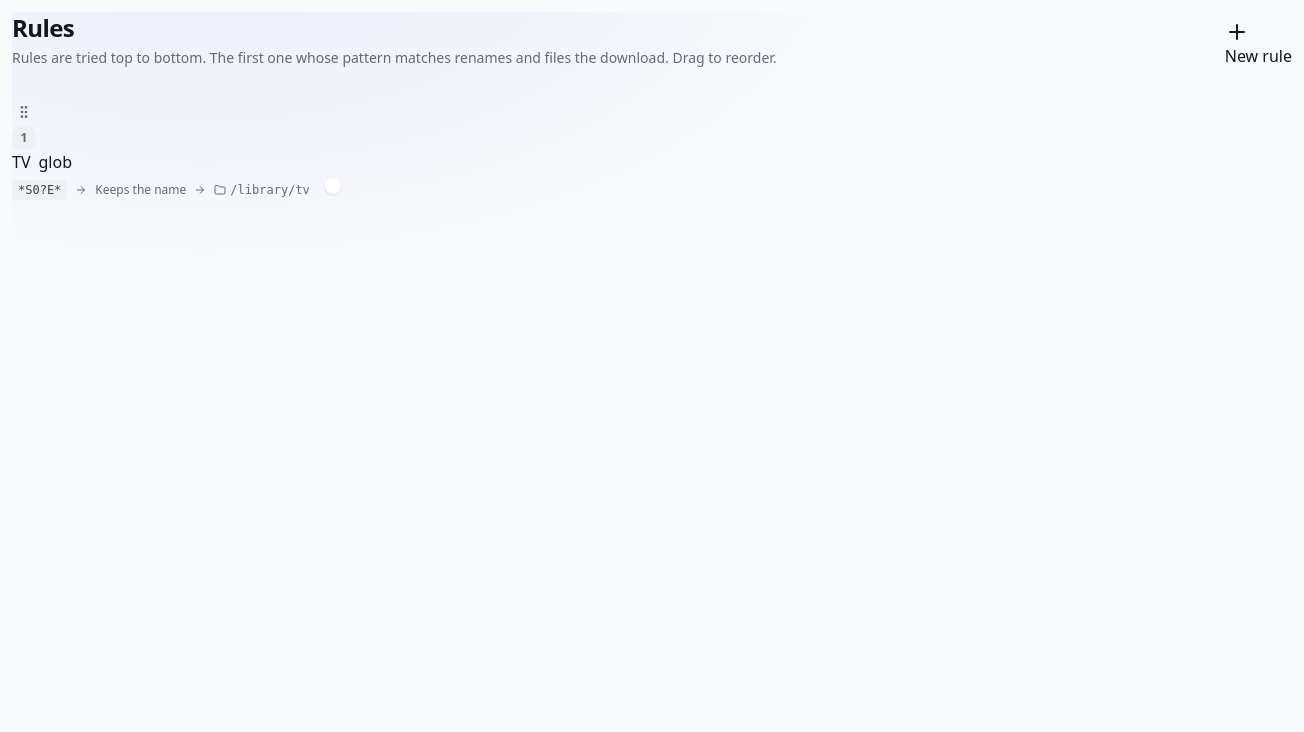
Scenario: RulesPage › reports a failed save
Expected: the element with test id "signed-in" is shown, [12,12,1292,200]
Click the switch named "Enable TV".
click(318, 186)  # box [310,178,326,194]
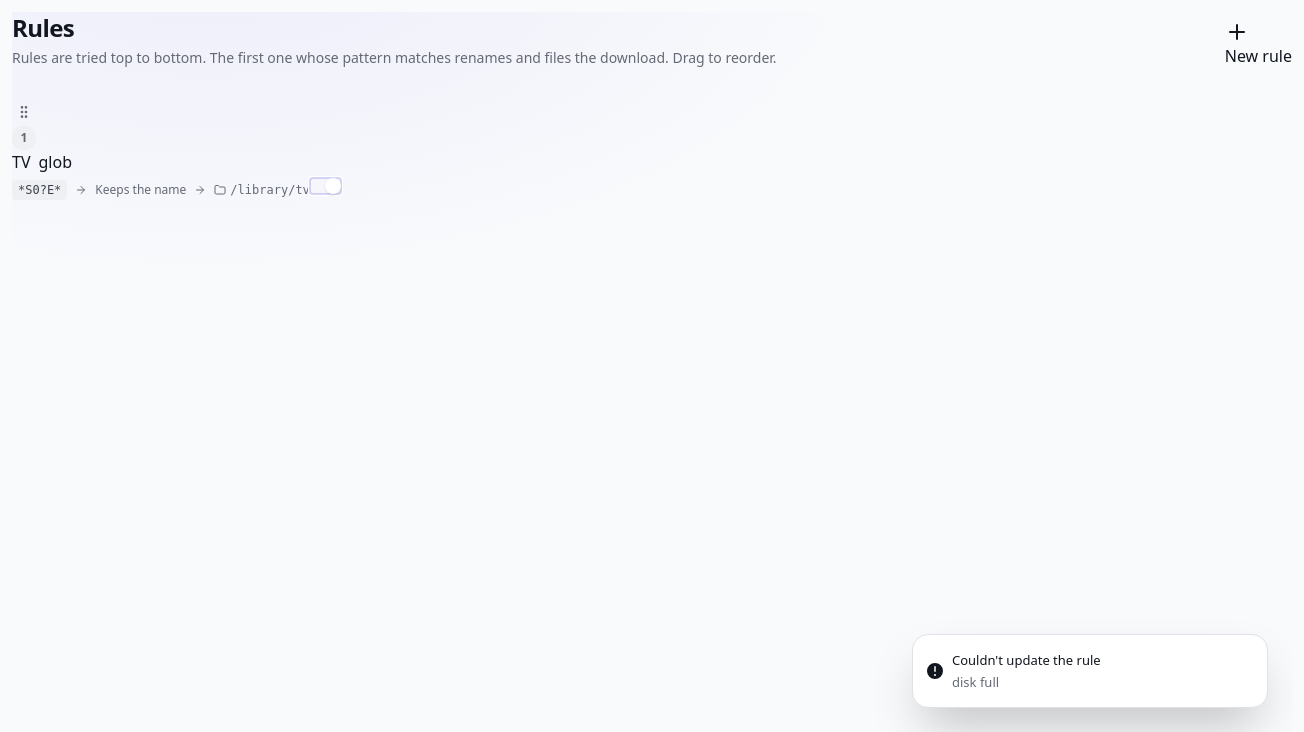
Result: the text "Couldn't update the rule" is shown at [952,651,1101,671]
